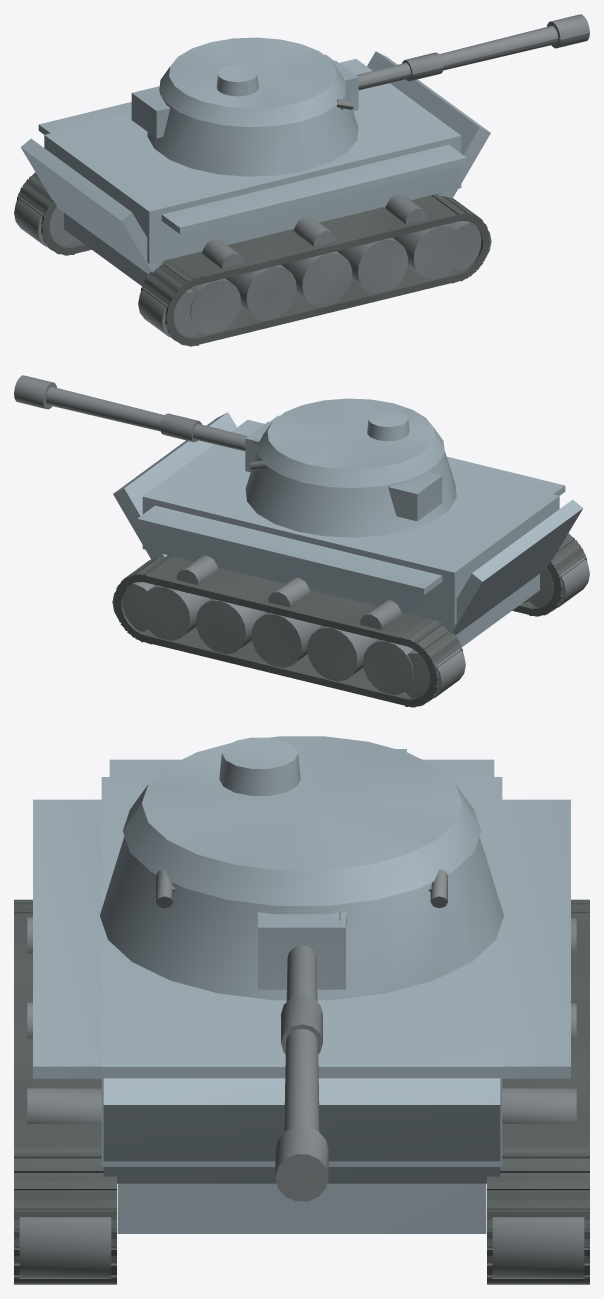
The model's file is tank.glb.
3 views of the same model, one above another, from view 1: azimuth 30°, elevation 25°; view 2: azimuth 150°, elevation 25°; view 3: azimuth 270°, elevation 25° (orthographic). The views are drawn at different scales.
Parts seen in each view (by area): view 1: hull, turret; view 2: hull, turret; view 3: hull, turret.
Part boxes in pixels (x1,y1,x2,y2): hull: (14, 51, 491, 346); turret: (131, 14, 589, 176); hull: (112, 412, 589, 707); turret: (14, 375, 456, 537); hull: (14, 759, 589, 1284); turret: (100, 736, 503, 1201).
Bounding box in the file's own units: 5.91 × 2.2 × 3.02.
